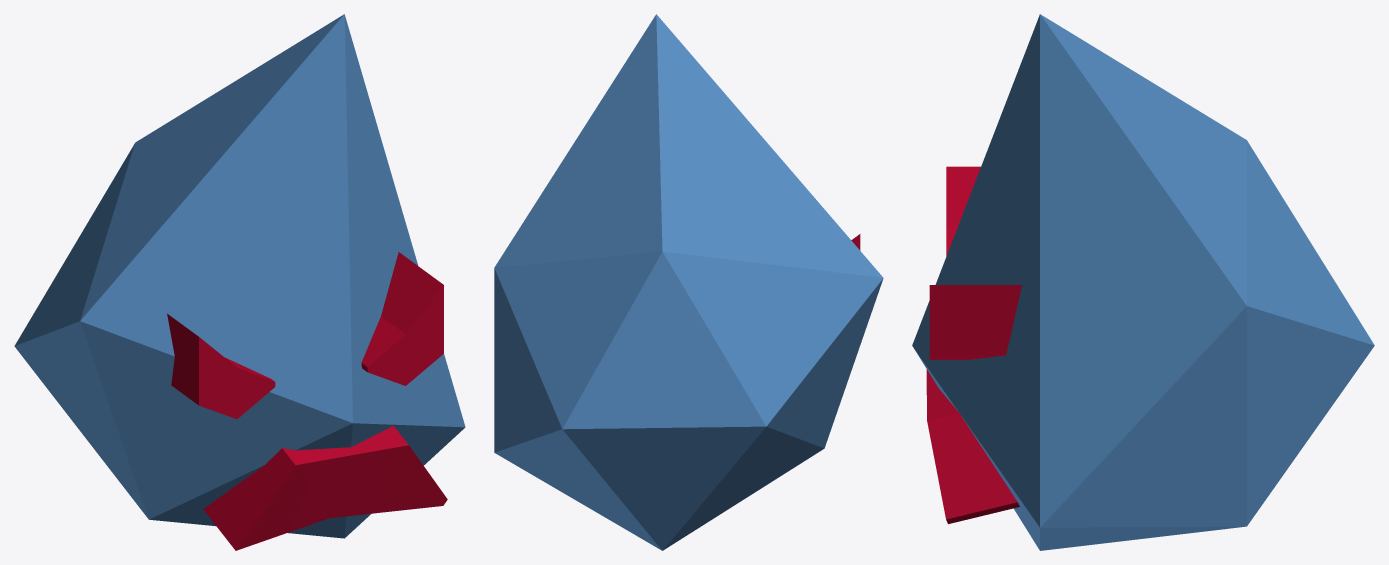
The model's file is LowPolyWaterEnemy.fbx.
3 views of the same model, side by side, from view 1: azimuth 30°, elevation 25°; view 2: azimuth 150°, elevation 25°; view 3: azimuth 270°, elevation 25° (orthographic). The views are drawn at different scales.
Visible parts, largest first — view 1: WaterBody, Mouth, Eye2, Eye1; view 2: WaterBody; view 3: WaterBody, Mouth, Eye2, Eye1.
Boxes of the visible parts, <box> form: WaterBody: <box>14,14,465,538</box>; Mouth: <box>203,426,447,550</box>; Eye2: <box>361,252,443,385</box>; Eye1: <box>167,313,275,419</box>; WaterBody: <box>494,14,883,550</box>; WaterBody: <box>912,14,1374,550</box>; Mouth: <box>926,369,1019,524</box>; Eye2: <box>929,285,1021,359</box>; Eye1: <box>946,166,980,255</box>.
Size of the model in its own units: 202 by 263 by 205.
